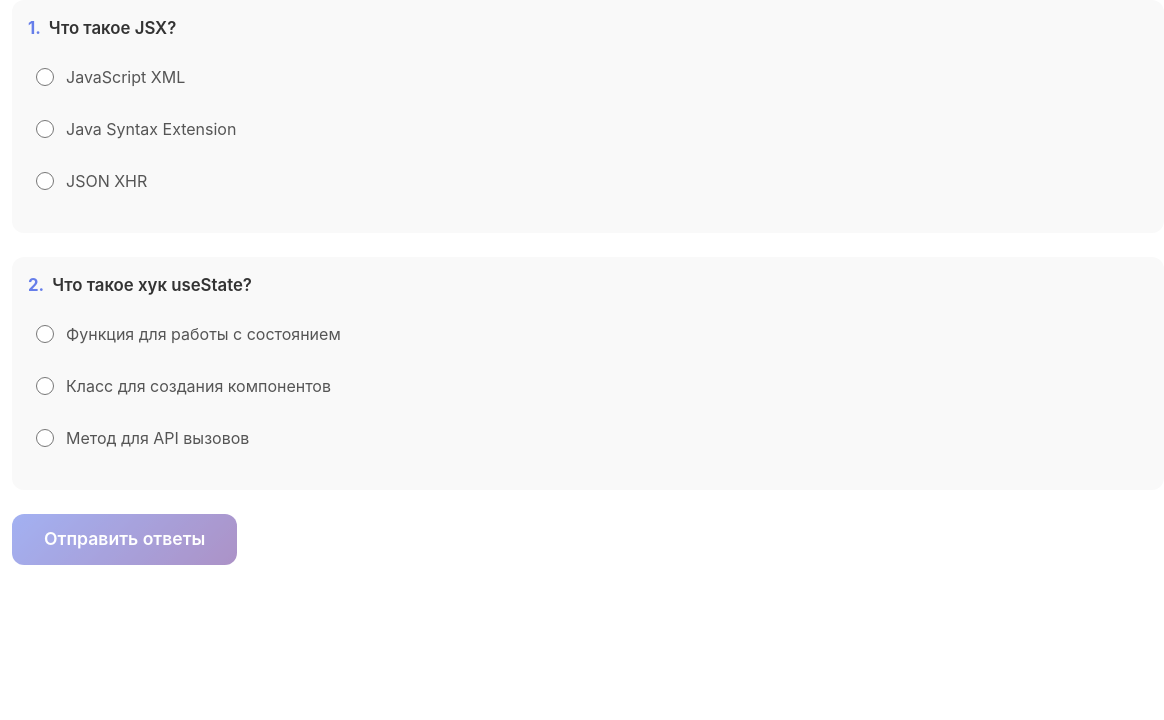
Test: QuizRunner › should reset quiz when "Повторить" is clicked
This screenshot has width=1164, height=720.
Click the radio button labelled "JavaScript XML" at (45, 77), box [36,68,54,86]
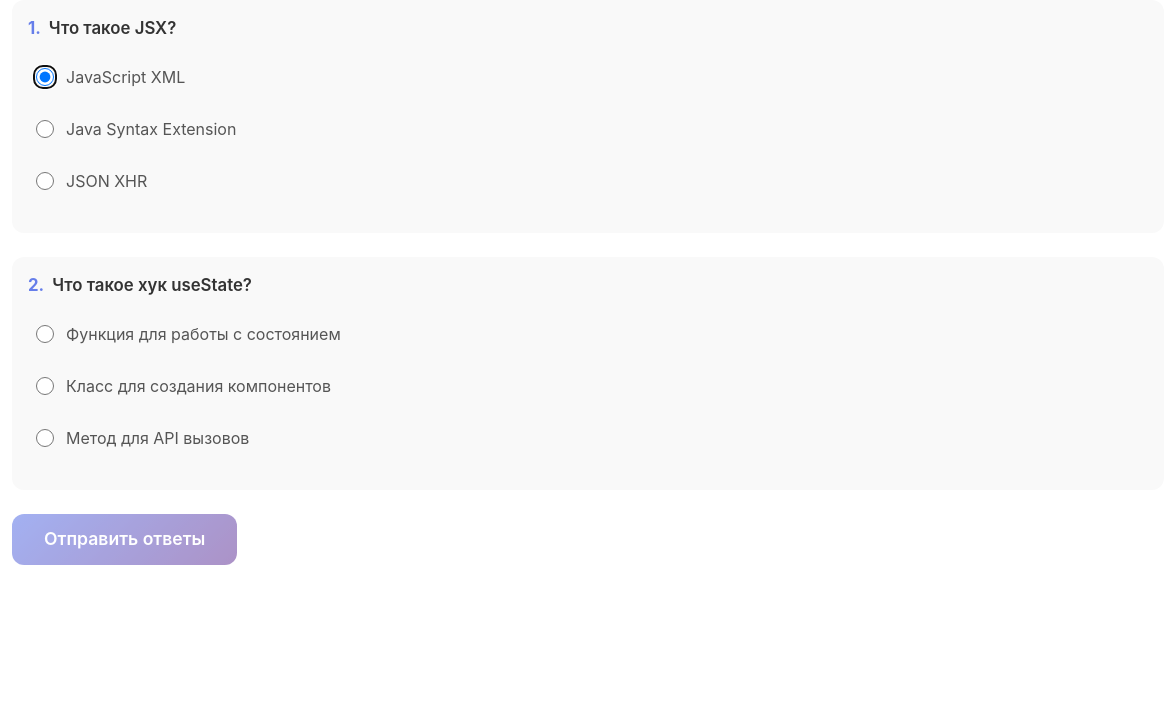
Click the radio button labelled "Функция для работы с состоянием" at (45, 334), box [36,325,54,343]
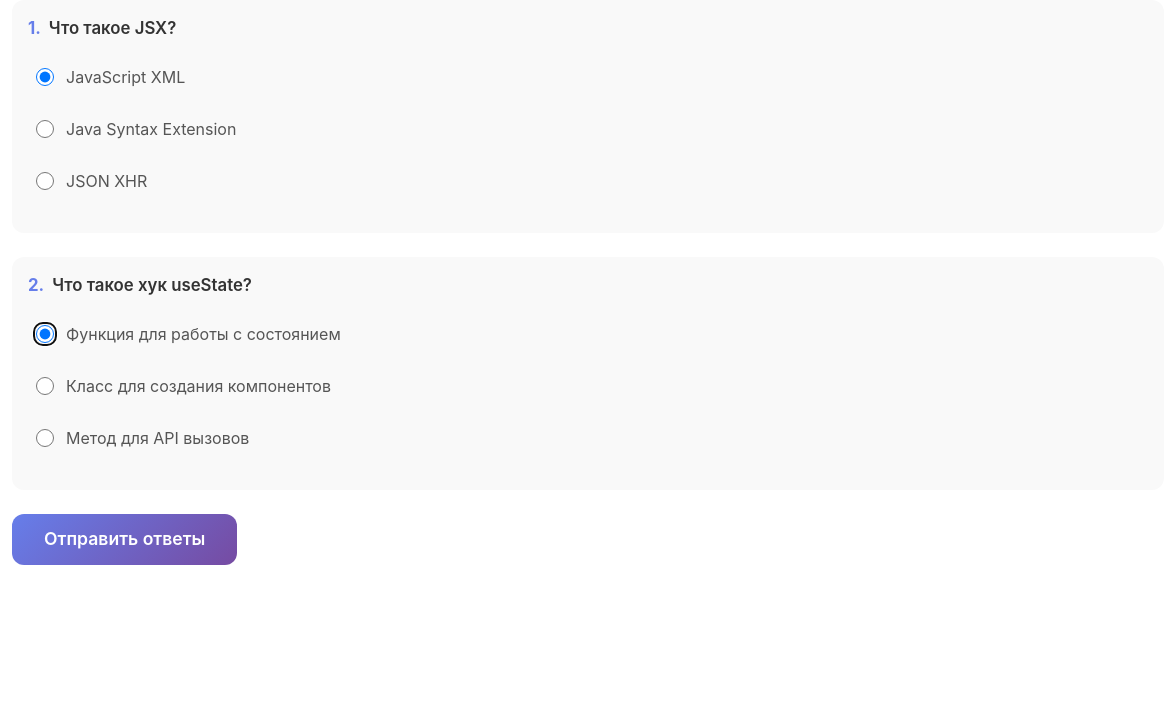
Click the button "Отправить ответы" at (125, 540), box [12,514,237,565]
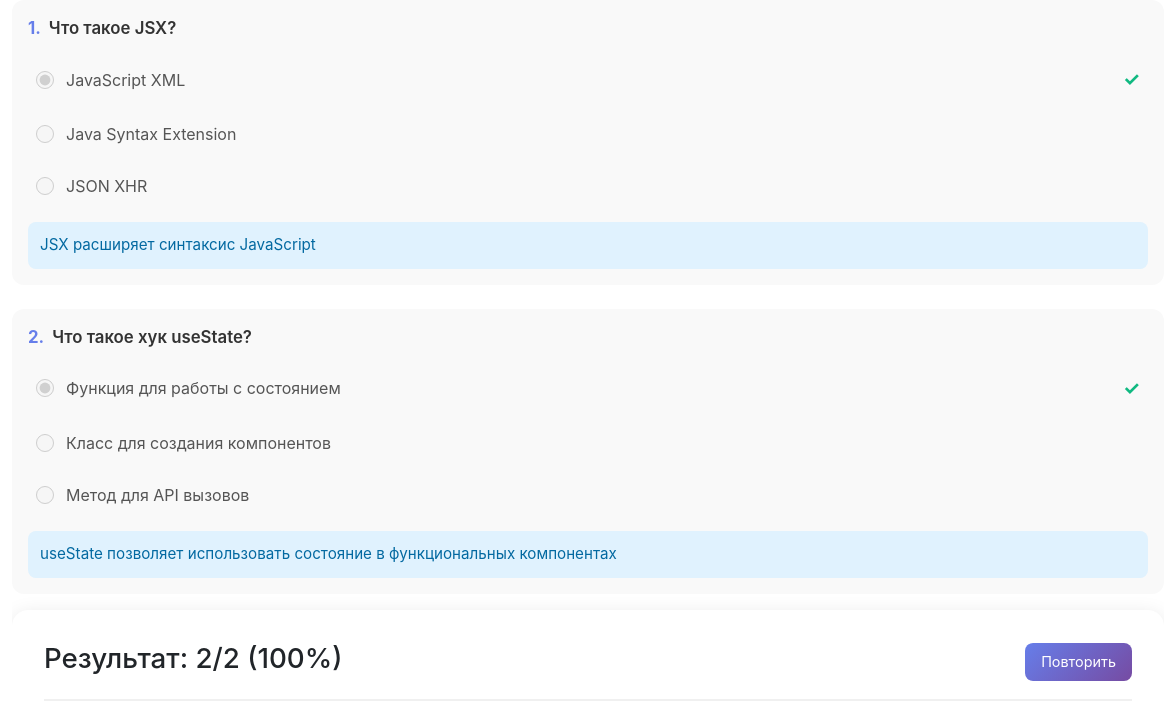
Now the heading "Результат: 2/2 (100%)" is shown, box [44,642,342,675]
Click the button "Повторить" at (1079, 662), box [1025,643,1132,681]
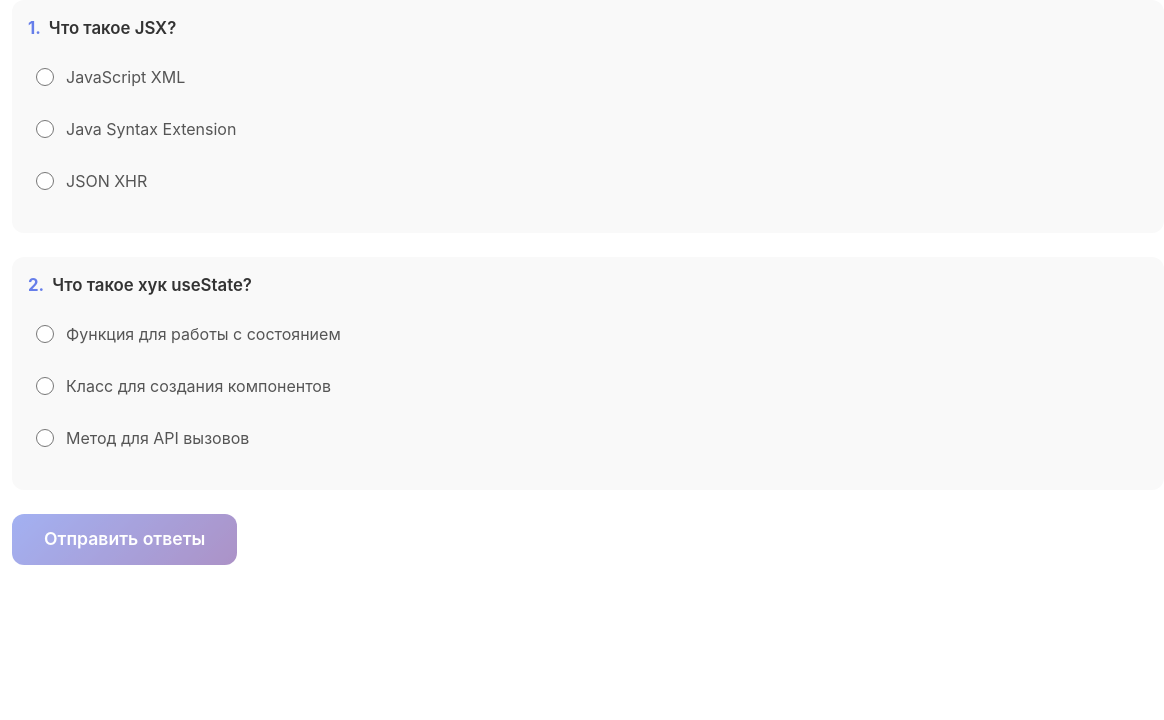
Now the button "Отправить ответы" is shown, box [12,514,237,565]
Now the heading "Результат:" is gone
